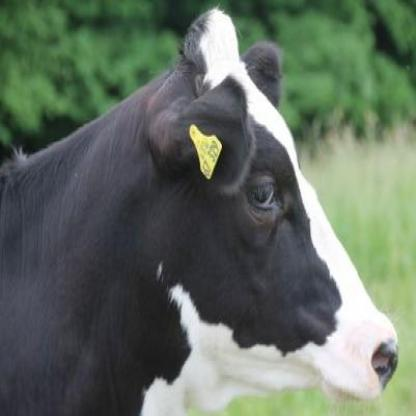cow: (0, 10, 397, 416)
